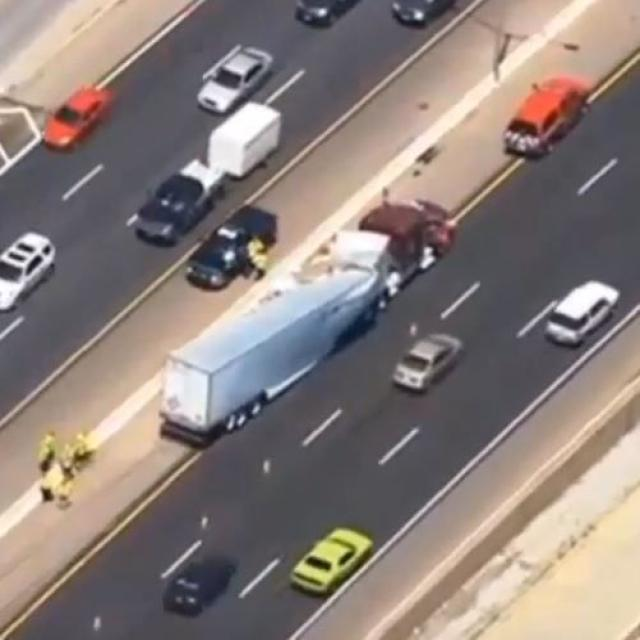traffic_incident: (170, 164, 446, 434)
